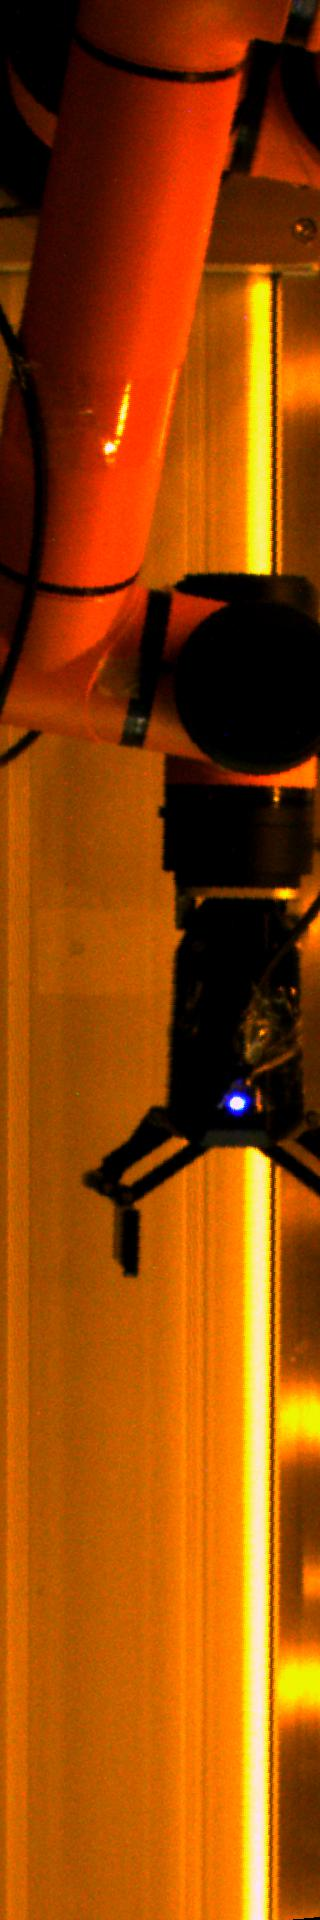keyPoint_1: (222, 1086, 253, 1116)
